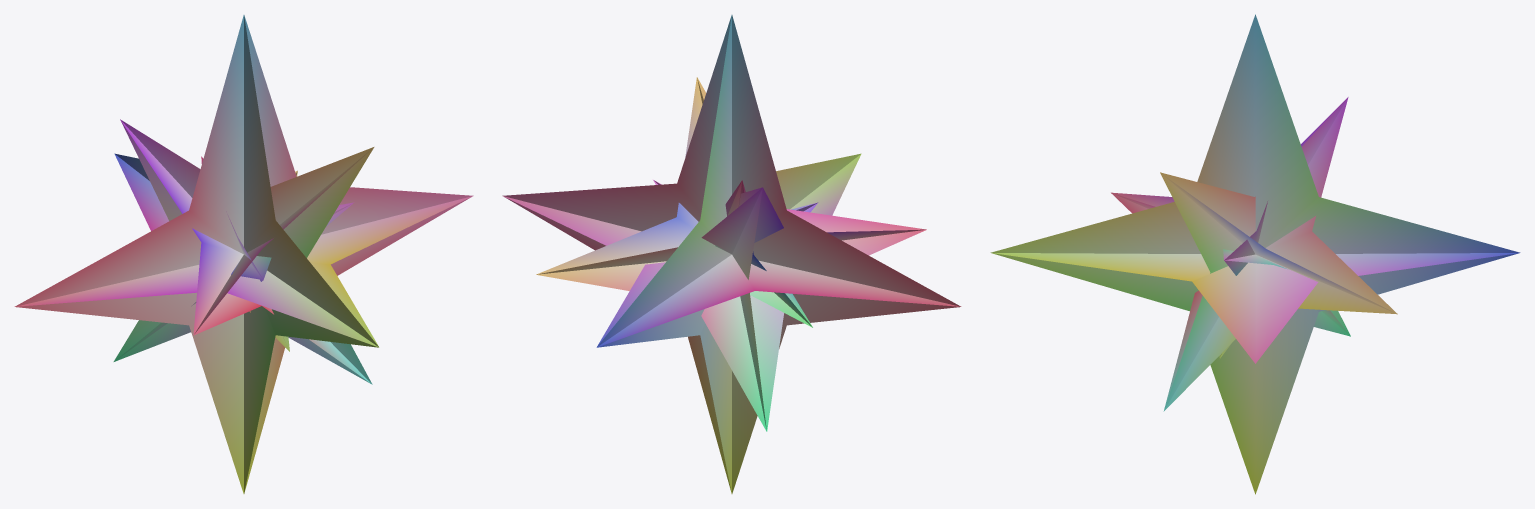
The model's file is space-stars-star_v12.glb.
3 views of the same model, side by side, from view 1: azimuth 30°, elevation 25°; view 2: azimuth 150°, elevation 25°; view 3: azimuth 270°, elevation 25° (orthographic).
Visible parts, largest first — view 1: Star_v12; view 2: Star_v12; view 3: Star_v12.
Part boxes in pixels (x1,y1,x2,y2): Star_v12: [14, 15, 473, 493]; Star_v12: [502, 15, 961, 493]; Star_v12: [990, 14, 1520, 494].
Size of the model in its own units: 0.5 by 0.5 by 0.5.
